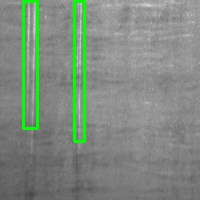scratches: (23, 1, 37, 128), (74, 1, 84, 141)
